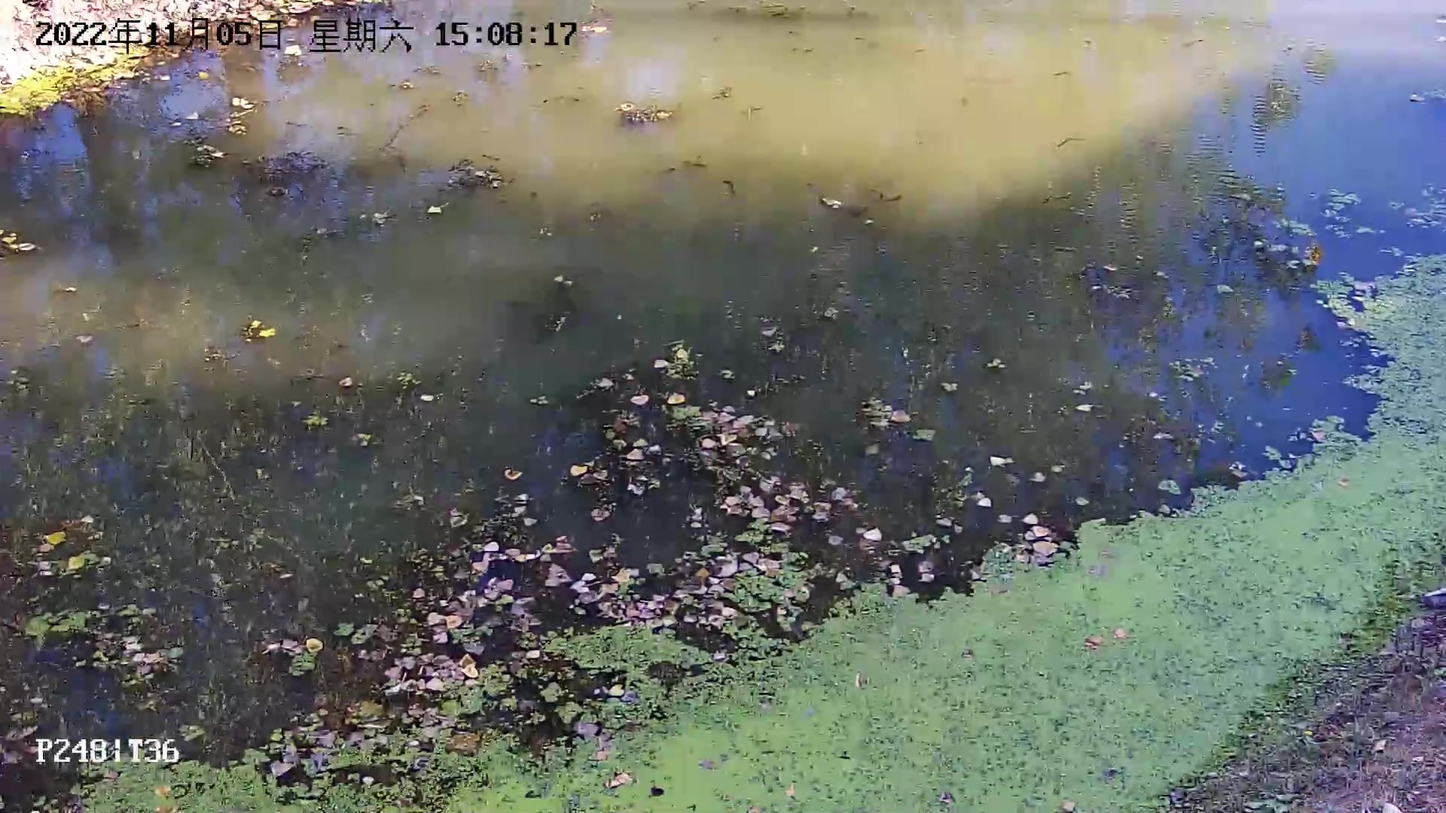floater: (864, 411, 1445, 813), (564, 354, 859, 623), (66, 693, 570, 813), (570, 626, 860, 813), (372, 469, 566, 690), (1278, 186, 1446, 404), (177, 93, 336, 196), (28, 596, 185, 693), (29, 515, 117, 573), (442, 151, 513, 196), (617, 94, 682, 125), (2, 227, 44, 256)
